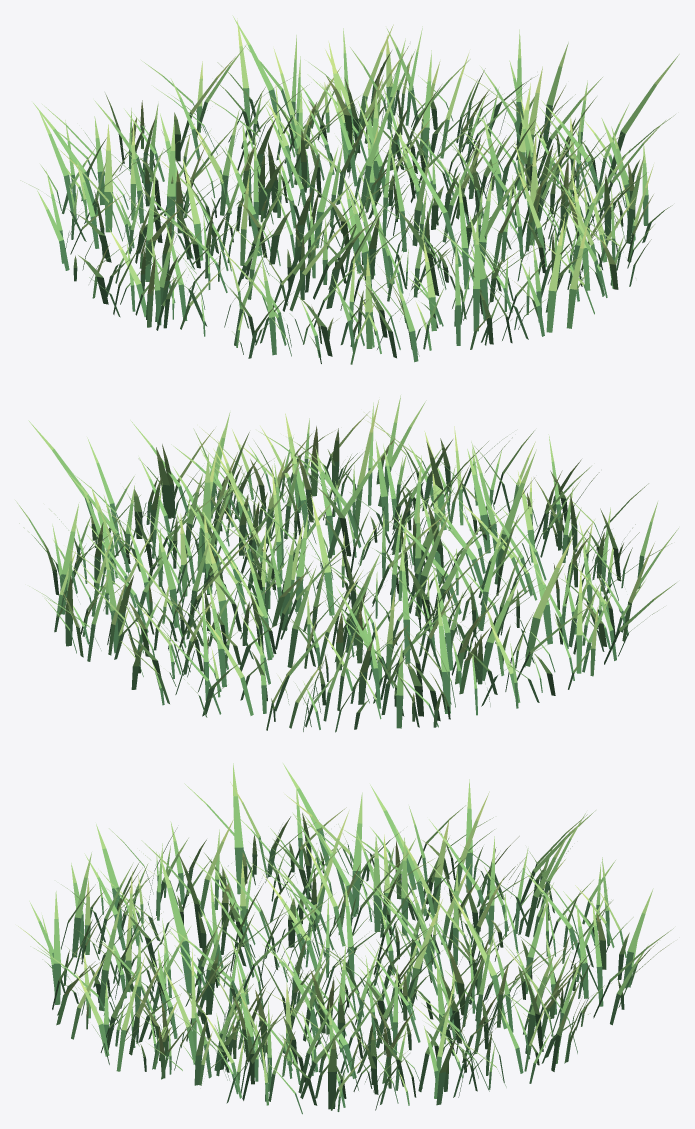
The model's file is Grass_01_Short.glb.
3 renders of one model, top to bottom at view 1: azimuth 30°, elevation 25°; view 2: azimuth 150°, elevation 25°; view 3: azimuth 270°, elevation 25°, orthographic.
Visible parts, largest first — view 1: Grass_01_Short; view 2: Grass_01_Short; view 3: Grass_01_Short.
Part boxes in pixels (x1,y1,x2,y2): Grass_01_Short: (20,15,679,364); Grass_01_Short: (15,395,678,732); Grass_01_Short: (18,763,673,1114).
Bounding box in the file's own units: 2.66 × 0.4903 × 2.48.
